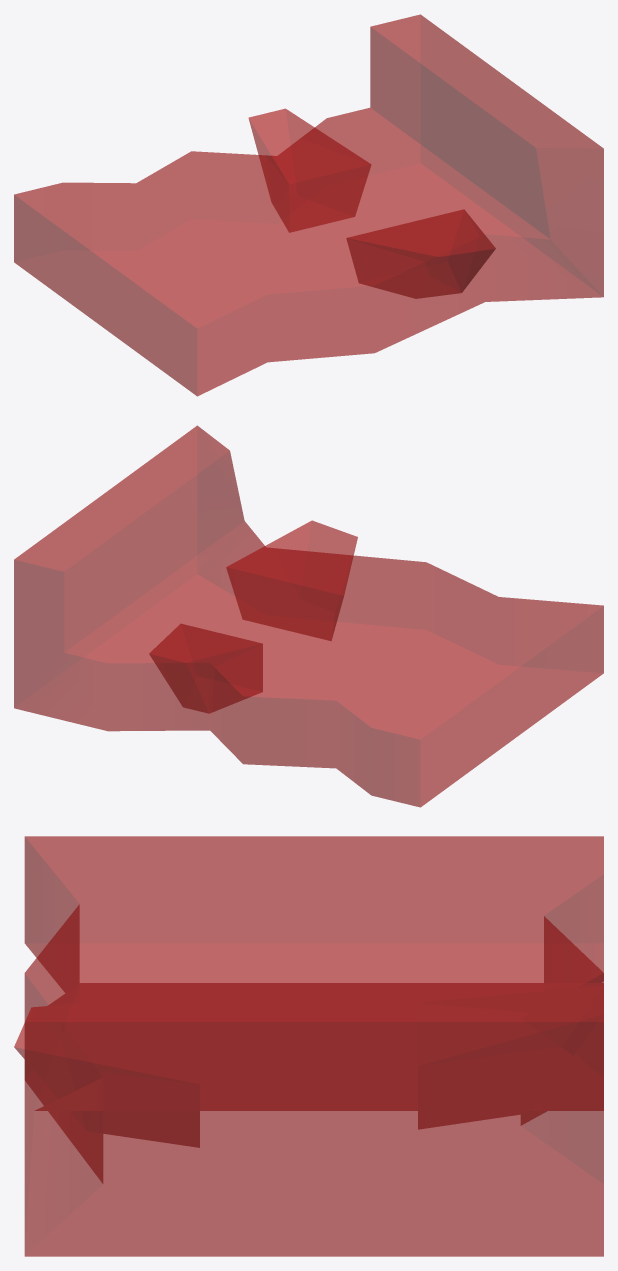
File: SM_Env_Motorway_Edge_Destroyed_01_Collision.fbx
3 views of the same model, one above another, from view 1: azimuth 30°, elevation 25°; view 2: azimuth 150°, elevation 25°; view 3: azimuth 270°, elevation 25° (orthographic). The views are drawn at different scales.
Parts seen in each view (by area): view 1: SM_Env_Motorway_Edge_Destroyed_01_Collision; view 2: SM_Env_Motorway_Edge_Destroyed_01_Collision; view 3: SM_Env_Motorway_Edge_Destroyed_01_Collision.
Boxes of the visible parts, bbox=[...] form: SM_Env_Motorway_Edge_Destroyed_01_Collision: bbox=[14, 14, 603, 396]; SM_Env_Motorway_Edge_Destroyed_01_Collision: bbox=[14, 425, 603, 807]; SM_Env_Motorway_Edge_Destroyed_01_Collision: bbox=[14, 836, 603, 1256].
Bounding box in the file's own units: 640 × 224 × 509.
